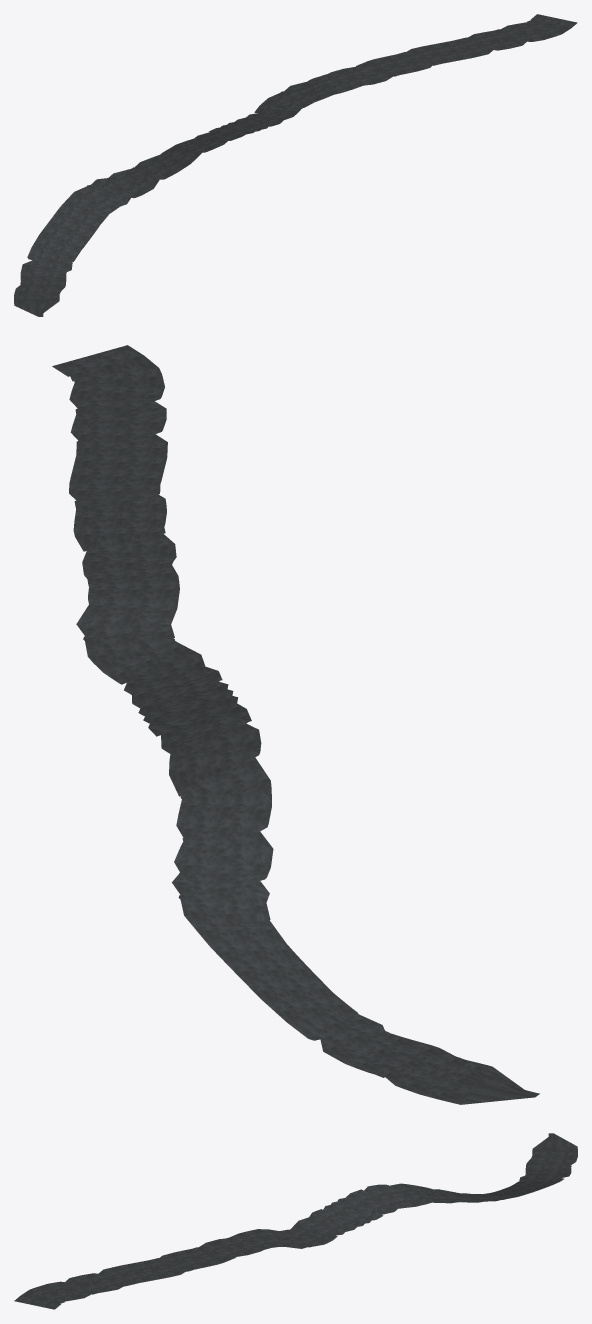
Rendered from RD-ROAD-018.obj.
3 views of the same model, one above another, from view 1: azimuth 90°, elevation 25°; view 2: azimuth 150°, elevation 25°; view 3: azimuth 270°, elevation 25° (orthographic). The views are drawn at different scales.
Visible parts, largest first — view 1: RD-ROAD-018; view 2: RD-ROAD-018; view 3: RD-ROAD-018.
Boxes of the visible parts, x1,y1,x2,y2 form: RD-ROAD-018: (14,14,577,316); RD-ROAD-018: (52,345,539,1104); RD-ROAD-018: (14,1133,577,1309).
Size of the model in its own units: 99.54 by 12.53 by 98.98.
Materials: 1 (1 with a texture image).
